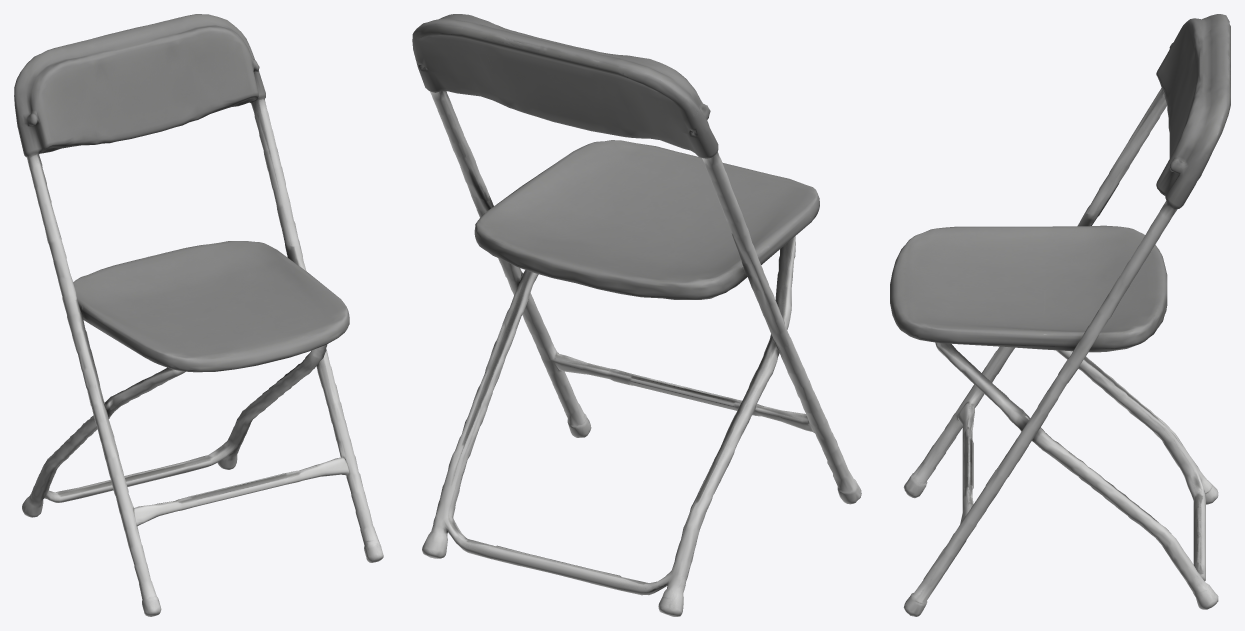
Rendered from Chair_Folding_Charco_0320031951_texture.glb.
3 views of the same model, side by side, from view 1: azimuth 30°, elevation 25°; view 2: azimuth 150°, elevation 25°; view 3: azimuth 270°, elevation 25° (orthographic). The views are drawn at different scales.
Visible parts, largest first — view 1: Mesh_0.007; view 2: Mesh_0.007; view 3: Mesh_0.007.
Part boxes in pixels (x1,y1,x2,y2): Mesh_0.007: [14, 14, 383, 616]; Mesh_0.007: [412, 14, 861, 616]; Mesh_0.007: [890, 14, 1230, 616].
Bounding box in the file's own units: 0.5051 × 0.9144 × 0.5652.
1 material, 1 textured.
